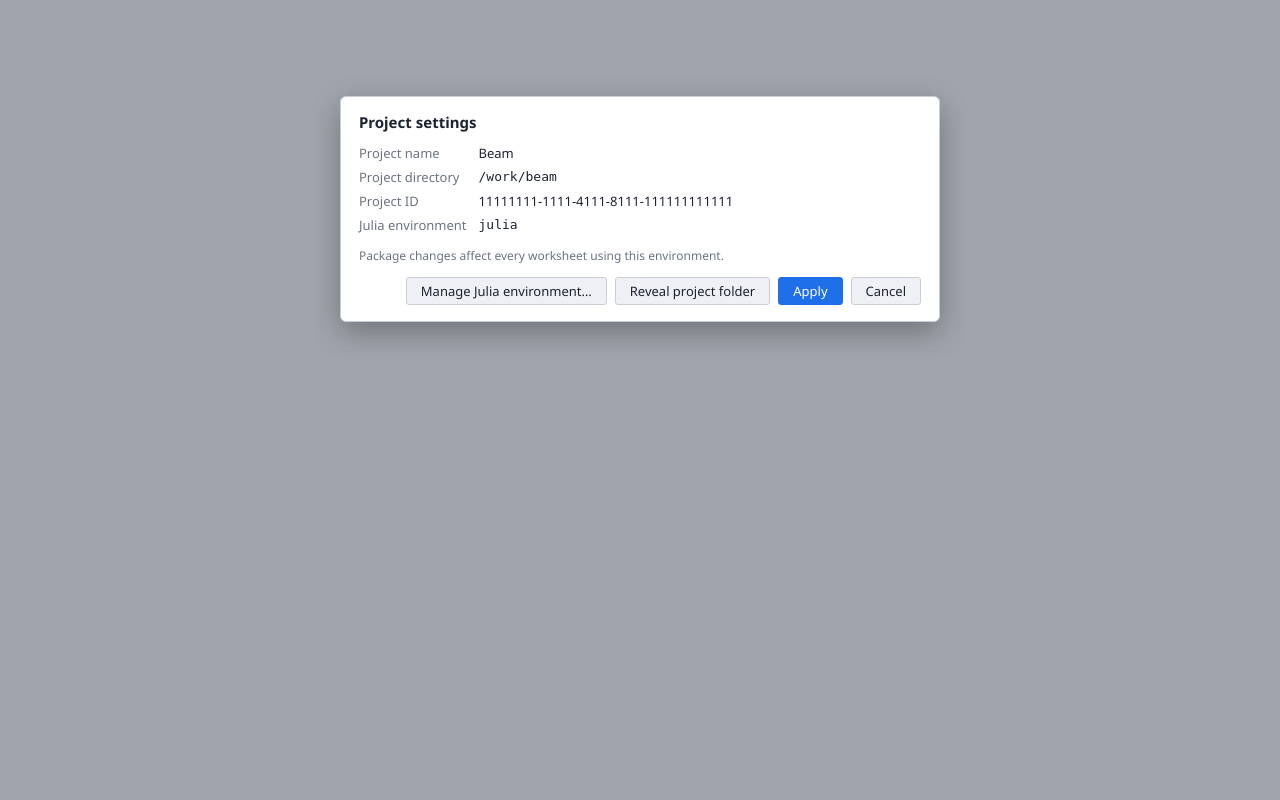
it: shows an environment action failure
Step 1. Click the button "Manage Julia environment…" → click(506, 291), box [406,277,607,305]
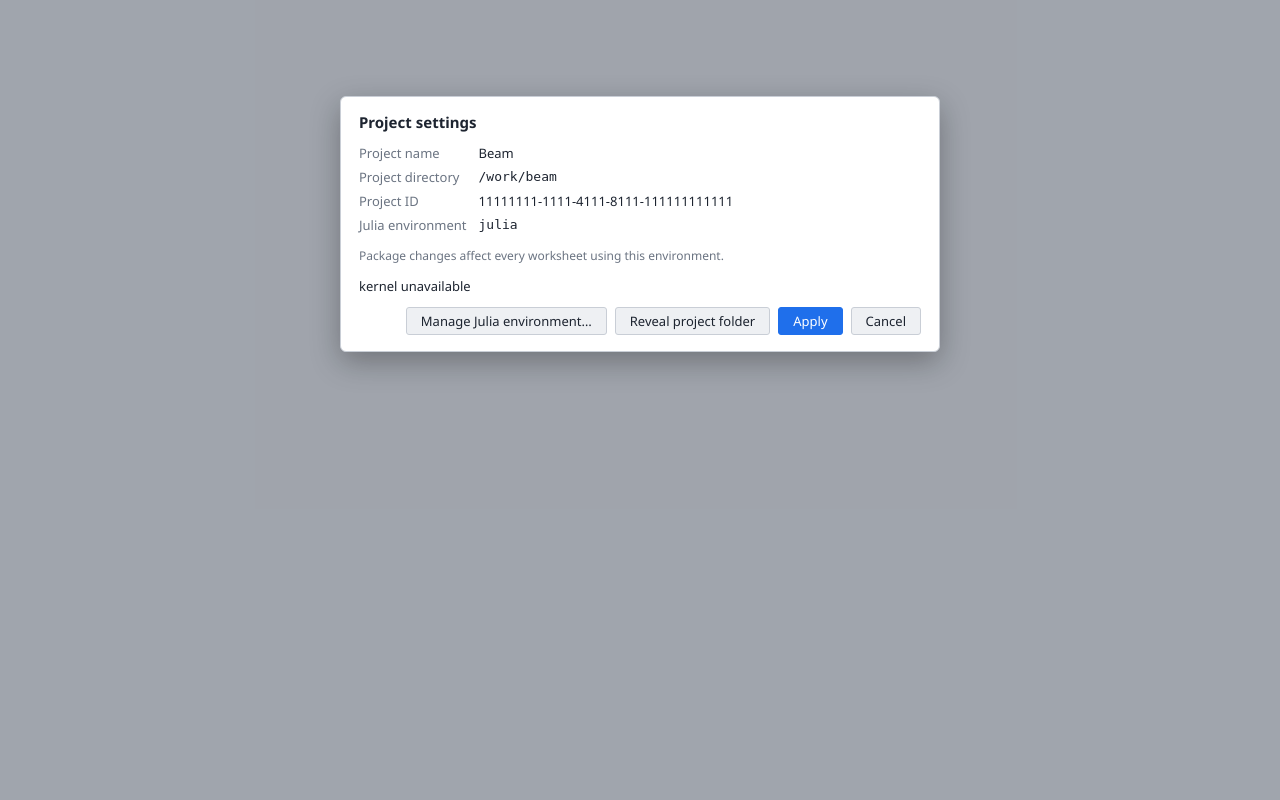
Expected: the dialog "Project settings" is shown, [340,96,940,352]
Now the message reads "kernel unavailable", box [359,277,471,295]
